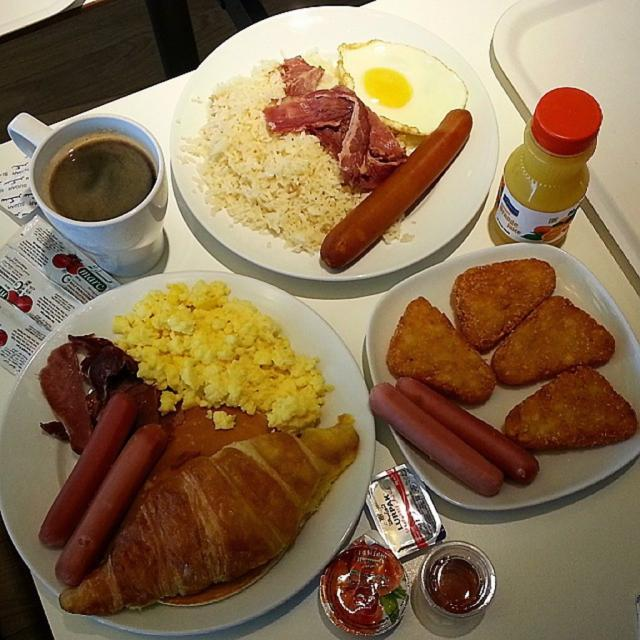Coffee: (29, 105, 166, 269)
Tea: (44, 129, 161, 221)
